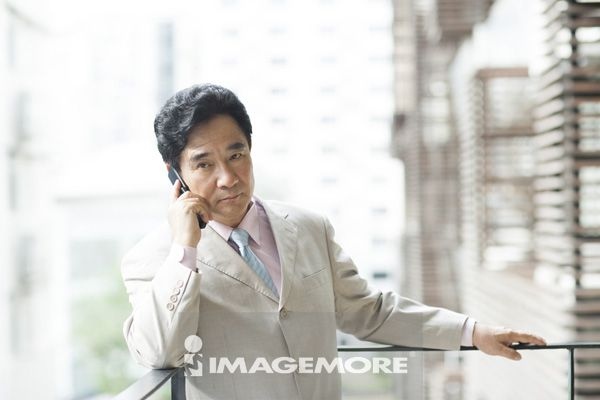talk: (163, 139, 251, 252)
